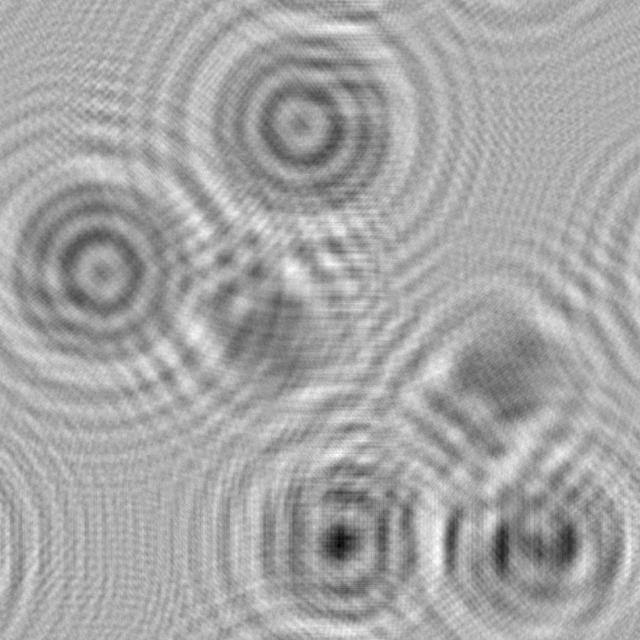P: (199, 401, 481, 640)
Q: (0, 135, 234, 400), (179, 1, 426, 246)
S: (423, 440, 640, 640)
T: (144, 197, 406, 439), (374, 247, 614, 508)
